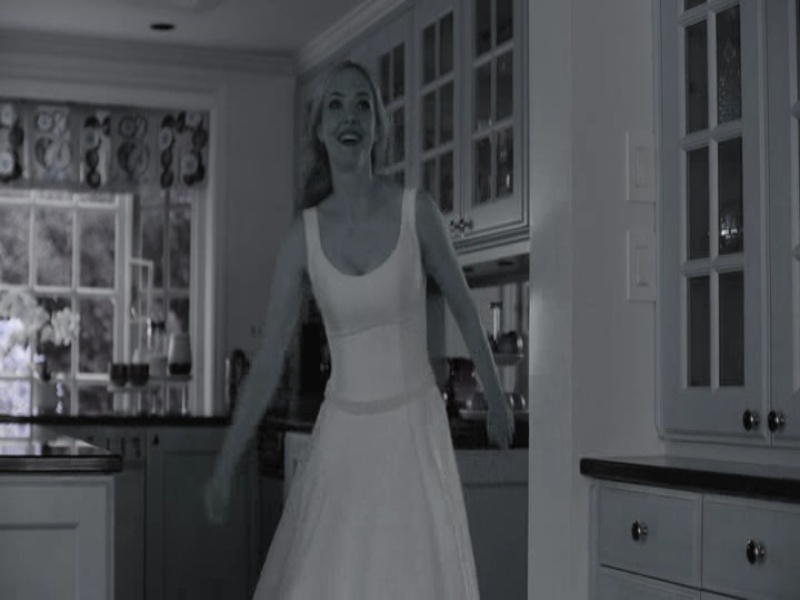TsisyArotava: (307, 64, 397, 179)
